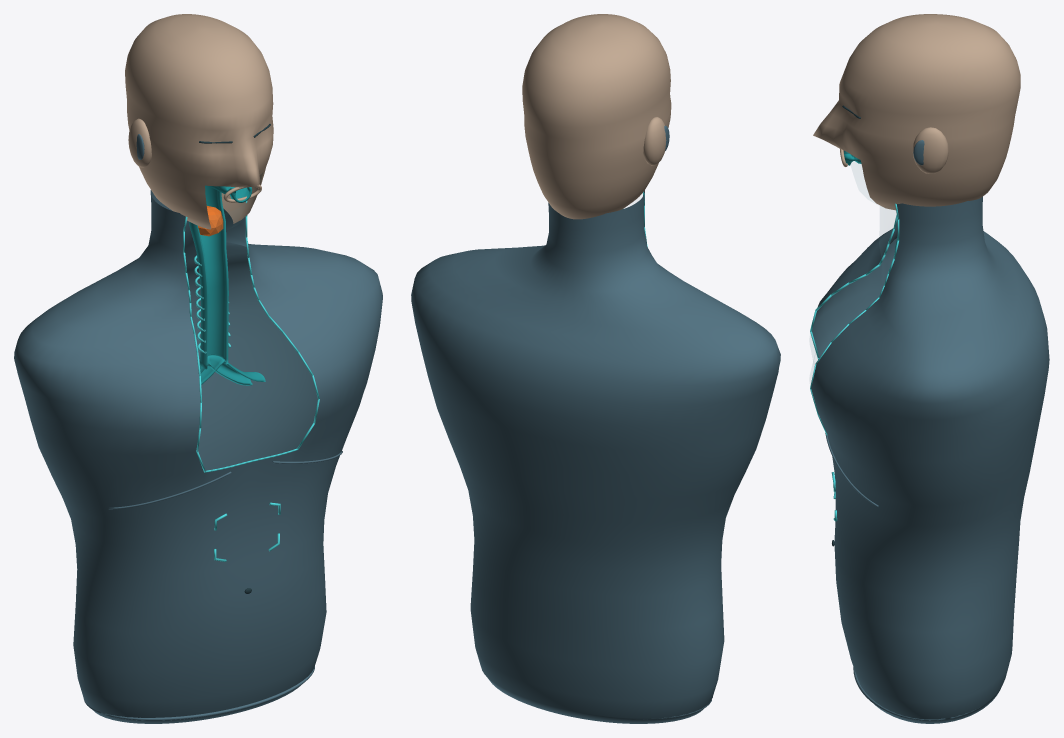
The model's file is First_Aid_3D_Heimlich.glb.
3 renders of one model, left to right at view 1: azimuth 30°, elevation 25°; view 2: azimuth 150°, elevation 25°; view 3: azimuth 270°, elevation 25°, orthographic.
Visible parts, largest first — view 1: Heimlich_Body, Heimlich_Head, Heimlich_Airway, Heimlich_Cover_Edge, Heimlich_Base_Rim, Heimlich_Ear_L; view 2: Heimlich_Body, Heimlich_Head, Heimlich_Ear_L; view 3: Heimlich_Body, Heimlich_Head, Heimlich_Ear_R, Heimlich_Cover_Edge.
Part boxes in pixels (box(x1,y1,x2,y2)): Heimlich_Body: box(14, 190, 382, 723); Heimlich_Head: box(125, 14, 273, 229); Heimlich_Airway: box(189, 185, 265, 385); Heimlich_Cover_Edge: box(183, 201, 319, 472); Heimlich_Base_Rim: box(84, 666, 314, 720); Heimlich_Ear_L: box(128, 118, 151, 167); Heimlich_Body: box(411, 190, 780, 723); Heimlich_Head: box(522, 14, 671, 219); Heimlich_Ear_L: box(643, 116, 666, 165); Heimlich_Body: box(811, 196, 1049, 723); Heimlich_Head: box(813, 14, 1020, 210); Heimlich_Ear_R: box(912, 127, 948, 173); Heimlich_Cover_Edge: box(810, 203, 899, 435).
Size of what is drawn, in the model's own units: 0.4879 by 0.871 by 0.2909.
